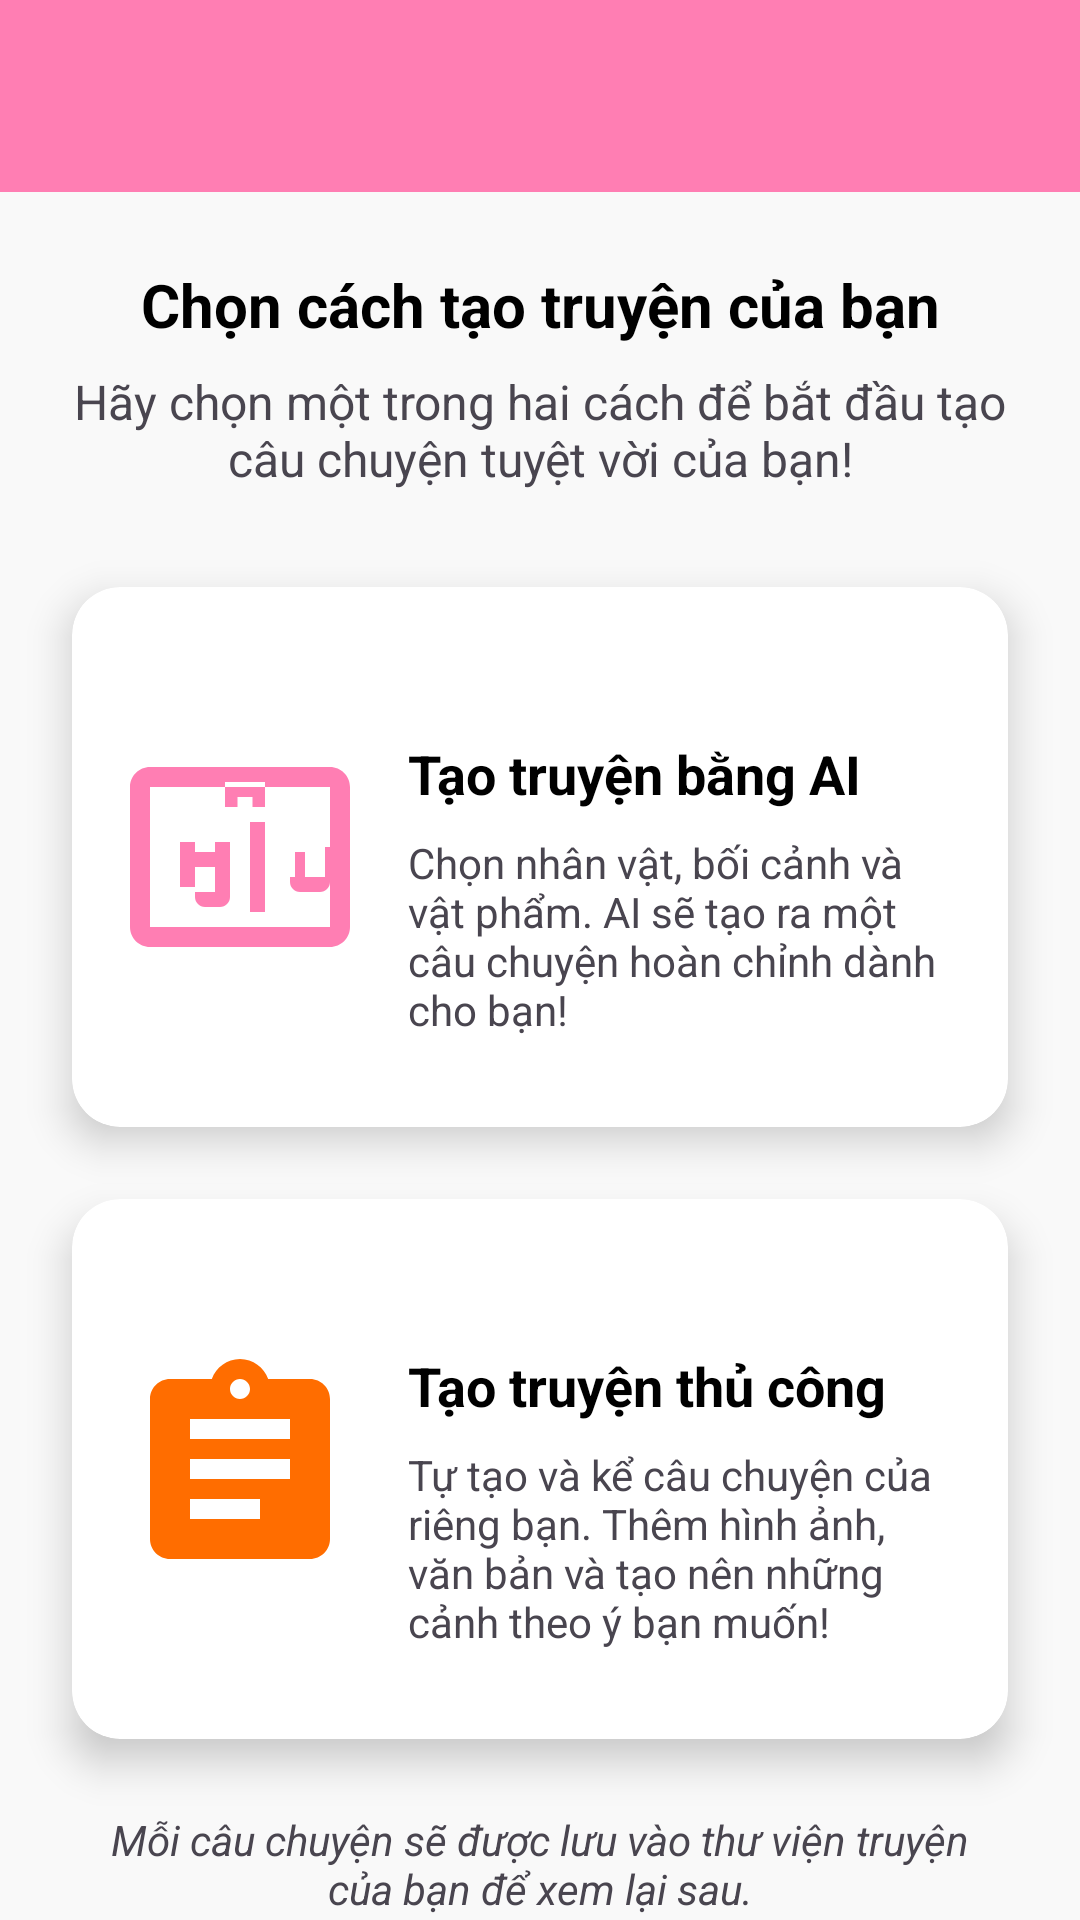

Point at icon controls on the screen. Image size 1080px×1920px, points as (x=x, y=y).
manual story: (x=240, y=1459)
